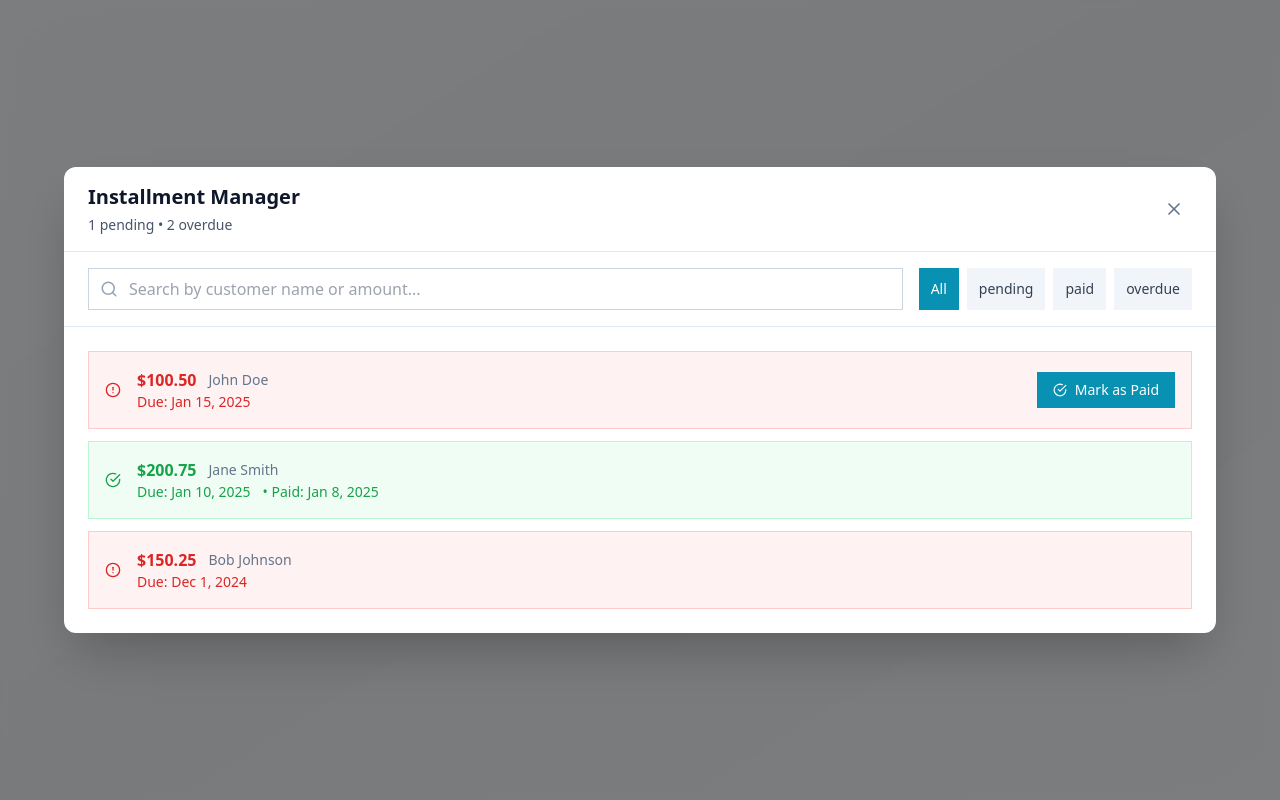
Test: InstallmentManager › Filtering › filters by search query - customer name
Expected: the text "John Doe" is shown, [208,370,268,390]
Type "Jane" into the field with placeholder "Search by customer name or amount..." at (495, 289), box [88,268,903,310]
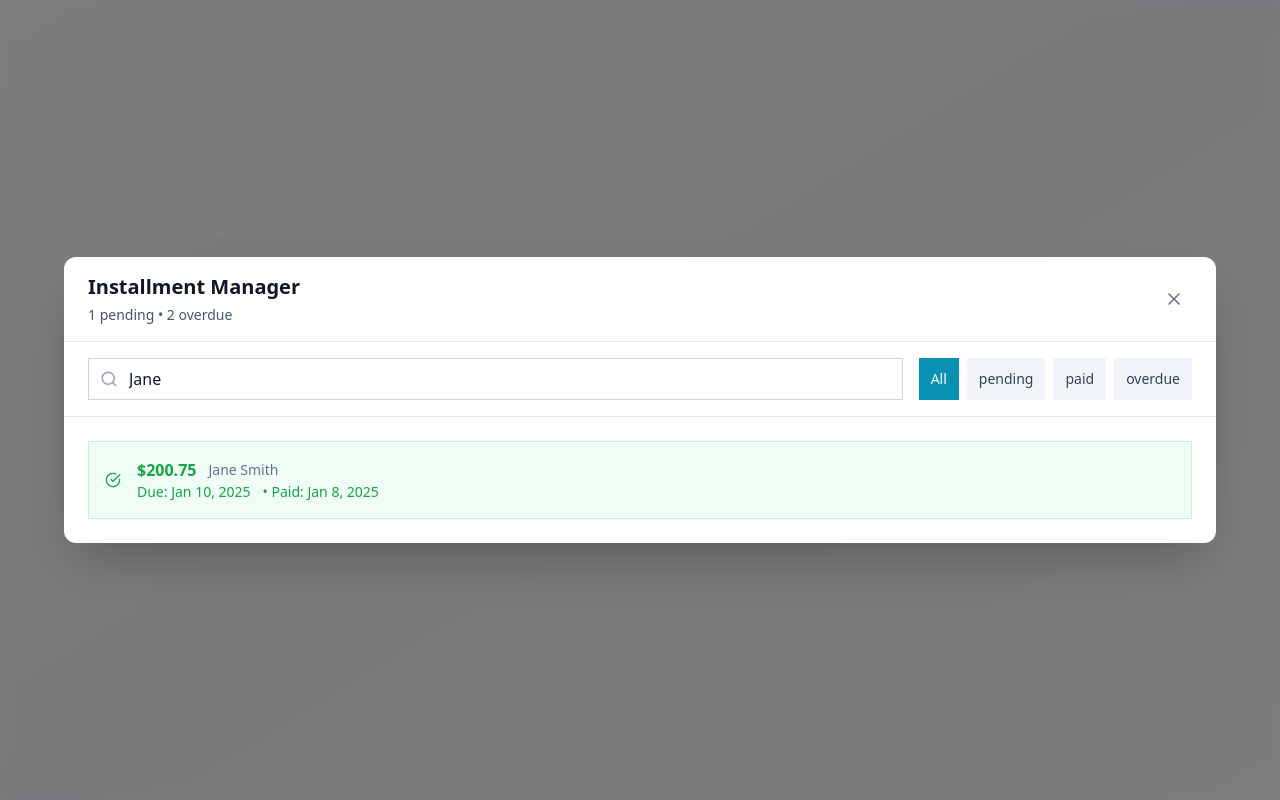
Expected: the text "Jane Smith" is shown, [208,460,278,480]
Result: the text "John Doe" is gone
